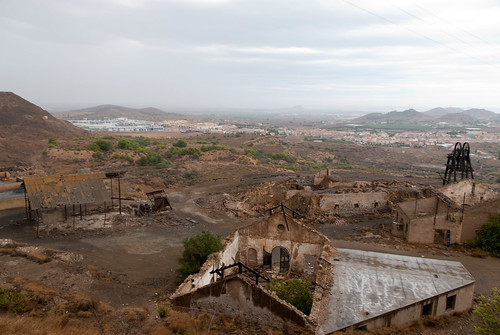building: (190, 205, 488, 335), (33, 161, 152, 227), (382, 184, 469, 256), (276, 172, 400, 210)
mountain: (342, 93, 500, 124), (74, 94, 175, 123)
sky: (1, 1, 490, 104)
